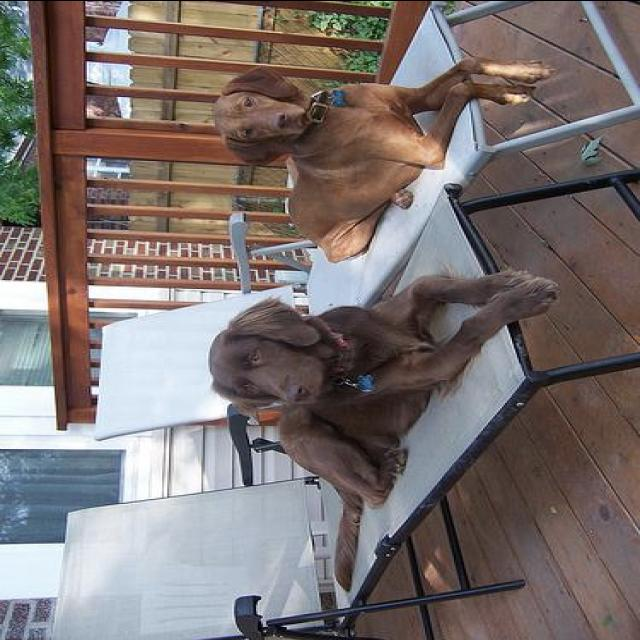vizsla: (204, 264, 558, 588), (208, 54, 558, 264)
